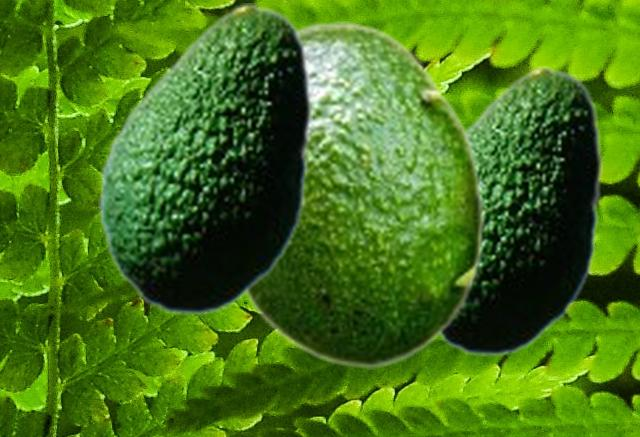avocado: (241, 21, 485, 368), (98, 3, 311, 315), (437, 66, 601, 356)
